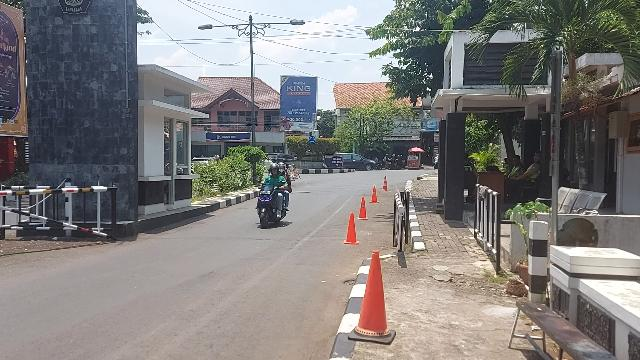helm: (271, 164, 280, 176), (279, 164, 287, 174)
motor: (257, 185, 287, 229)
